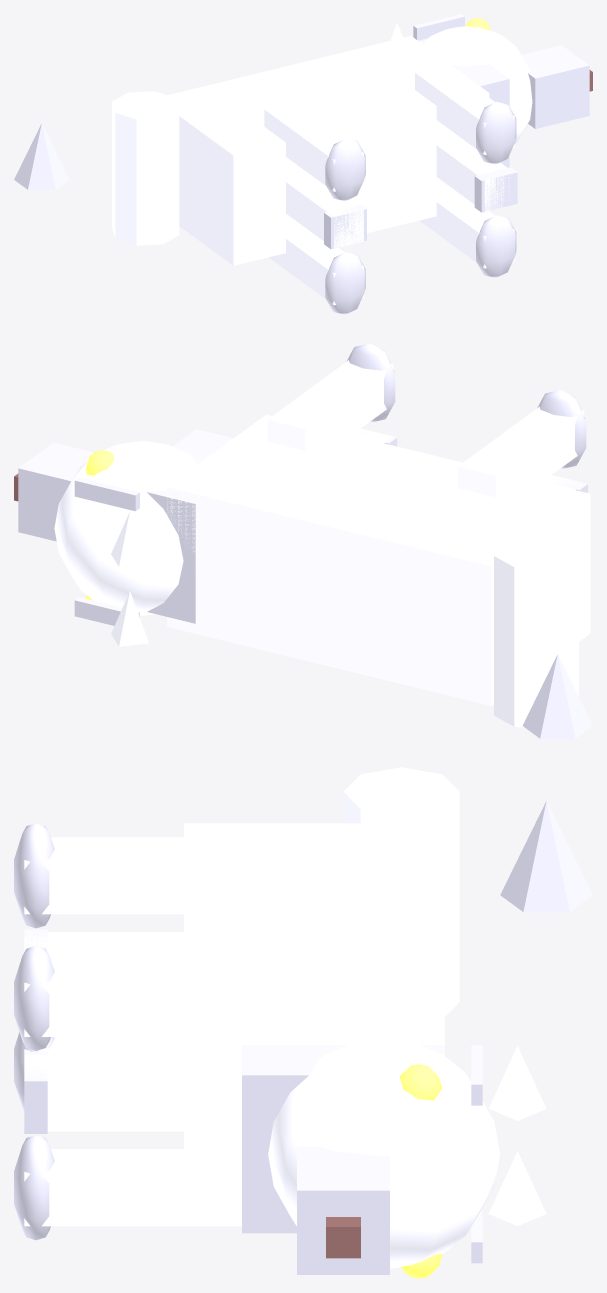
The model's file is wolf.glb.
3 views of the same model, one above another, from view 1: azimuth 30°, elevation 25°; view 2: azimuth 150°, elevation 25°; view 3: azimuth 270°, elevation 25° (orthographic). The views are drawn at different scales.
Visible parts, largest first — view 1: body, tail_base, head, snout, leg_fl_-0.2, leg_fl_0.3, leg_br, leg_fr, leg_bl_-0.2, leg_bl_0.3, tail_tip, paw_fl_-0.2 (+7 smaller); view 2: body, head, tail_base, leg_fl_-0.2, leg_fl_0.3, snout, chest, tail_tip, paw_fl_-0.2, paw_fl_0.3, stripe.001, ear_l (+3 smaller); view 3: body, head, leg_fl_-0.2, leg_fl_0.3, leg_bl_0.3, leg_fr, snout, chest, tail_base, tail_tip, leg_br, paw_fl_-0.2 (+10 smaller).
Boxes of the visible parts, x1,y1,x2,y2 form: body: (168, 36, 489, 265); tail_base: (112, 91, 179, 245); head: (424, 26, 532, 144); snout: (521, 45, 589, 128); leg_fl_-0.2: (264, 102, 363, 191); leg_fl_0.3: (415, 65, 514, 154); leg_br: (286, 176, 363, 248); leg_fr: (436, 139, 509, 211); leg_bl_-0.2: (268, 232, 363, 305); leg_bl_0.3: (419, 196, 514, 268); tail_tip: (14, 123, 69, 189); paw_fl_-0.2: (325, 138, 365, 201); body: (167, 414, 590, 705); head: (54, 441, 196, 615); tail_base: (494, 533, 578, 727); leg_fl_-0.2: (458, 407, 584, 497); leg_fl_0.3: (267, 360, 393, 450); snout: (18, 442, 93, 541); chest: (147, 429, 233, 623); tail_tip: (522, 654, 592, 738); paw_fl_-0.2: (537, 389, 586, 469); paw_fl_0.3: (346, 343, 395, 422); stripe.001: (74, 477, 139, 511); ear_l: (111, 511, 148, 566); body: (184, 823, 444, 1215); head: (268, 1039, 499, 1268); leg_fl_-0.2: (24, 837, 256, 914); leg_fl_0.3: (24, 960, 256, 1036); leg_bl_0.3: (24, 1149, 241, 1226); leg_fr: (24, 1054, 183, 1131); snout: (297, 1146, 389, 1274); chest: (242, 1045, 444, 1233); tail_base: (343, 767, 459, 1016); tail_tip: (500, 801, 592, 912); leg_br: (24, 932, 183, 959); paw_fl_-0.2: (14, 823, 54, 928).
Size of the model in its own units: 1.68 by 0.56 by 0.998.
